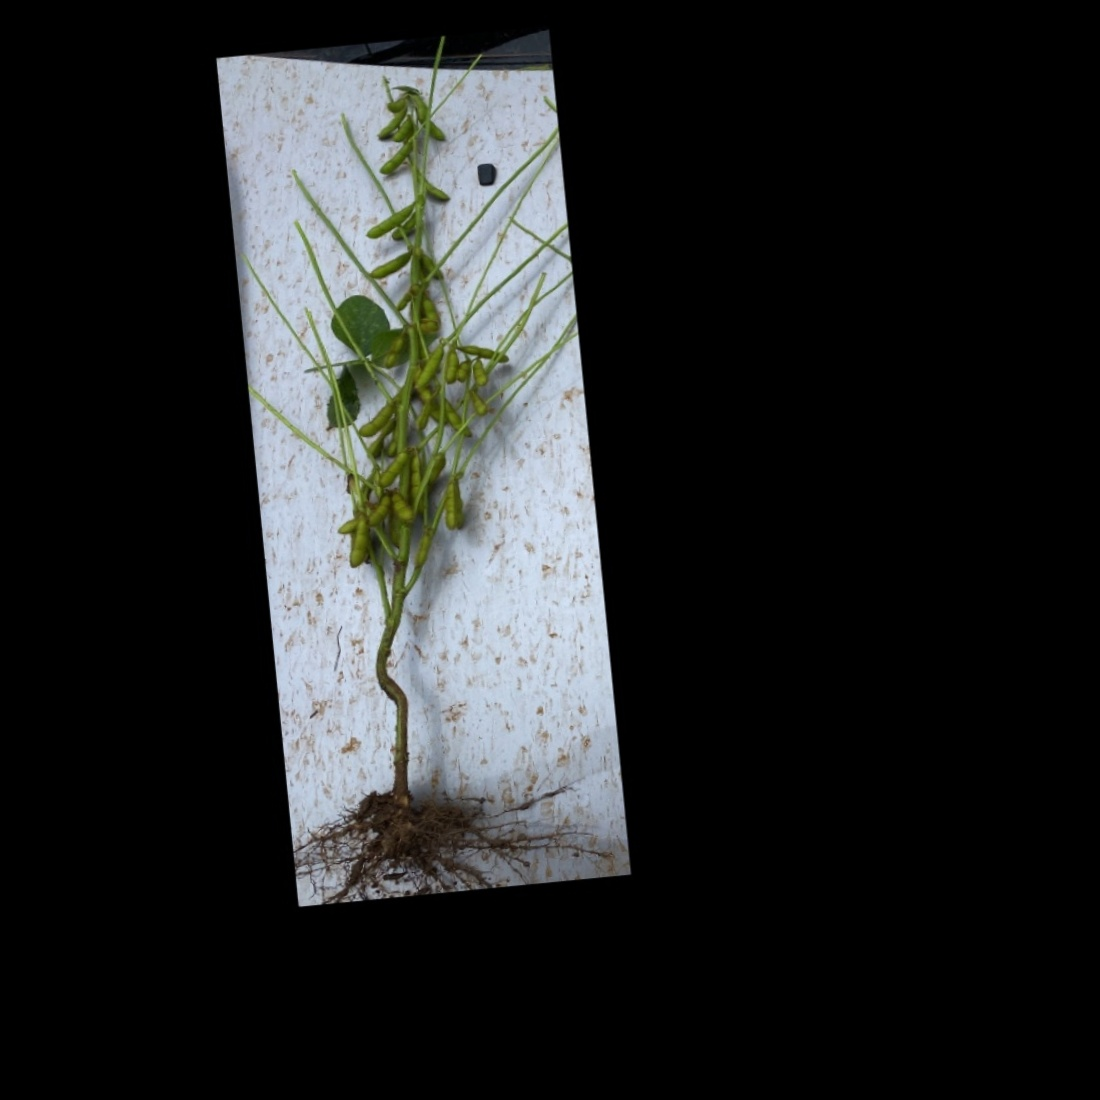pod: (343, 514, 373, 571), (412, 345, 447, 389), (454, 339, 509, 367), (374, 451, 413, 488), (367, 248, 412, 279), (441, 398, 473, 441), (374, 142, 414, 176), (415, 168, 451, 204), (439, 479, 458, 532), (364, 495, 393, 527), (452, 478, 469, 531), (390, 492, 415, 522), (412, 532, 431, 567), (442, 349, 460, 385), (390, 120, 414, 144), (469, 358, 489, 388)
soy: (231, 66, 573, 864)
